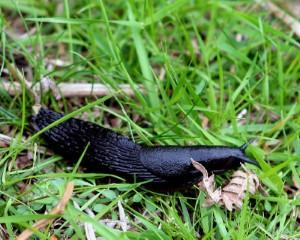slug: (31, 78, 267, 190)
